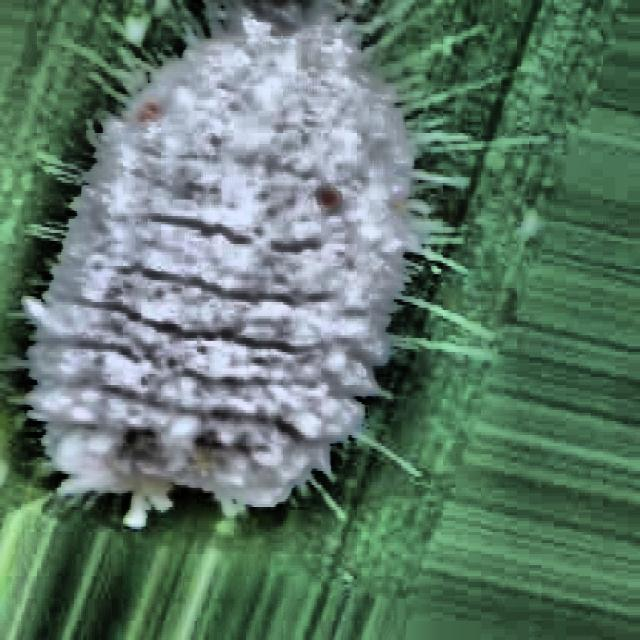Mealy-bug: (4, 5, 477, 607)
